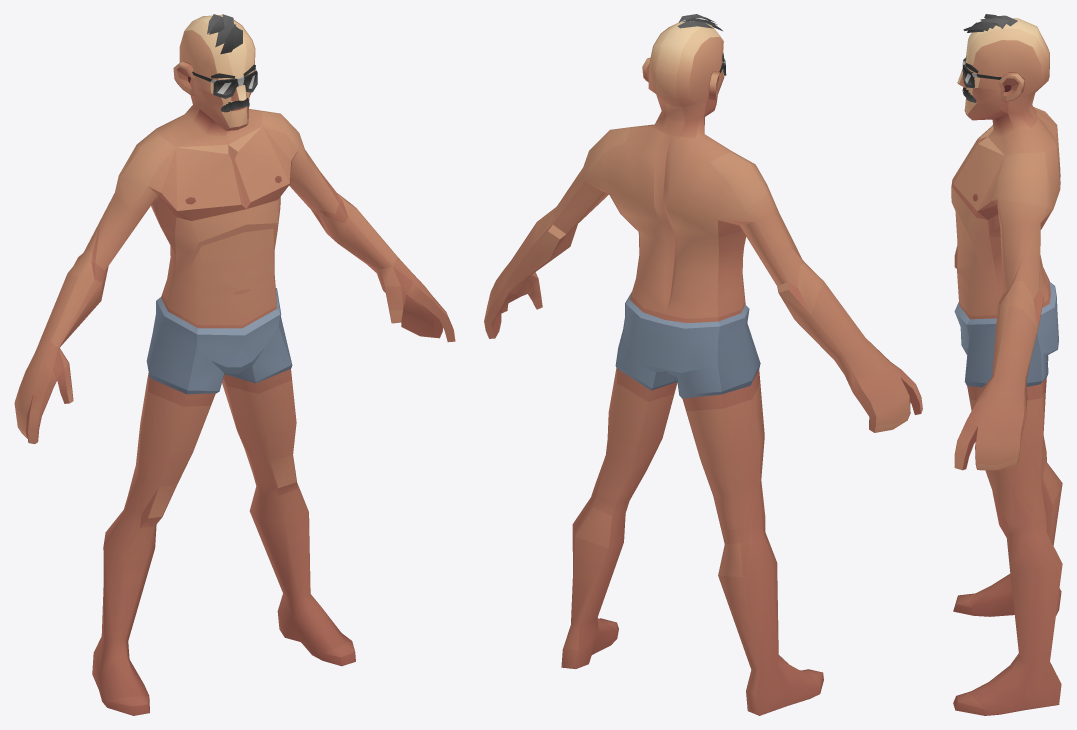
Rendered from random_guy.glb.
3 views of the same model, side by side, from view 1: azimuth 30°, elevation 25°; view 2: azimuth 150°, elevation 25°; view 3: azimuth 270°, elevation 25° (orthographic). The views are drawn at different scales.
Visible parts, largest first — view 1: Cube, Hair; view 2: Cube; view 3: Cube, Hair, Okulary.
Boxes of the visible parts, <box> form: Cube: <box>14,14,455,715</box>; Hair: <box>207,14,242,54</box>; Cube: <box>484,21,922,715</box>; Cube: <box>951,18,1062,715</box>; Hair: <box>963,14,1017,32</box>; Okulary: <box>962,58,1001,88</box>.
Bounding box in the file's own units: 13.03 × 19.13 × 3.02.
Materials: 3 (3 with a texture image).
